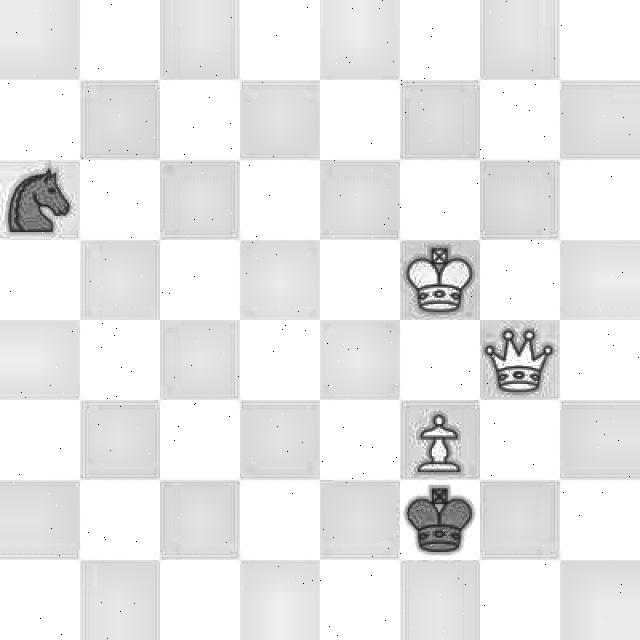Black Knight: (0, 167, 77, 237)
black king: (406, 482, 476, 556)
white king: (401, 247, 480, 320)
white pawn: (402, 404, 470, 476)
white queen: (486, 326, 557, 394)
